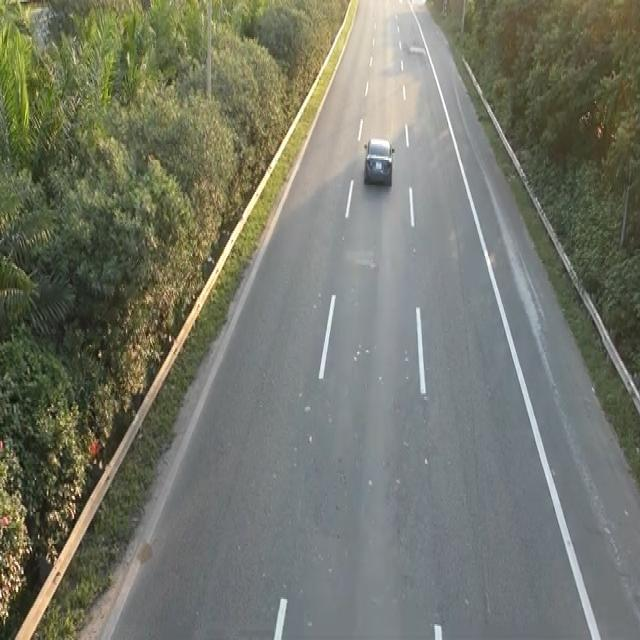bus: (362, 133, 395, 187)
